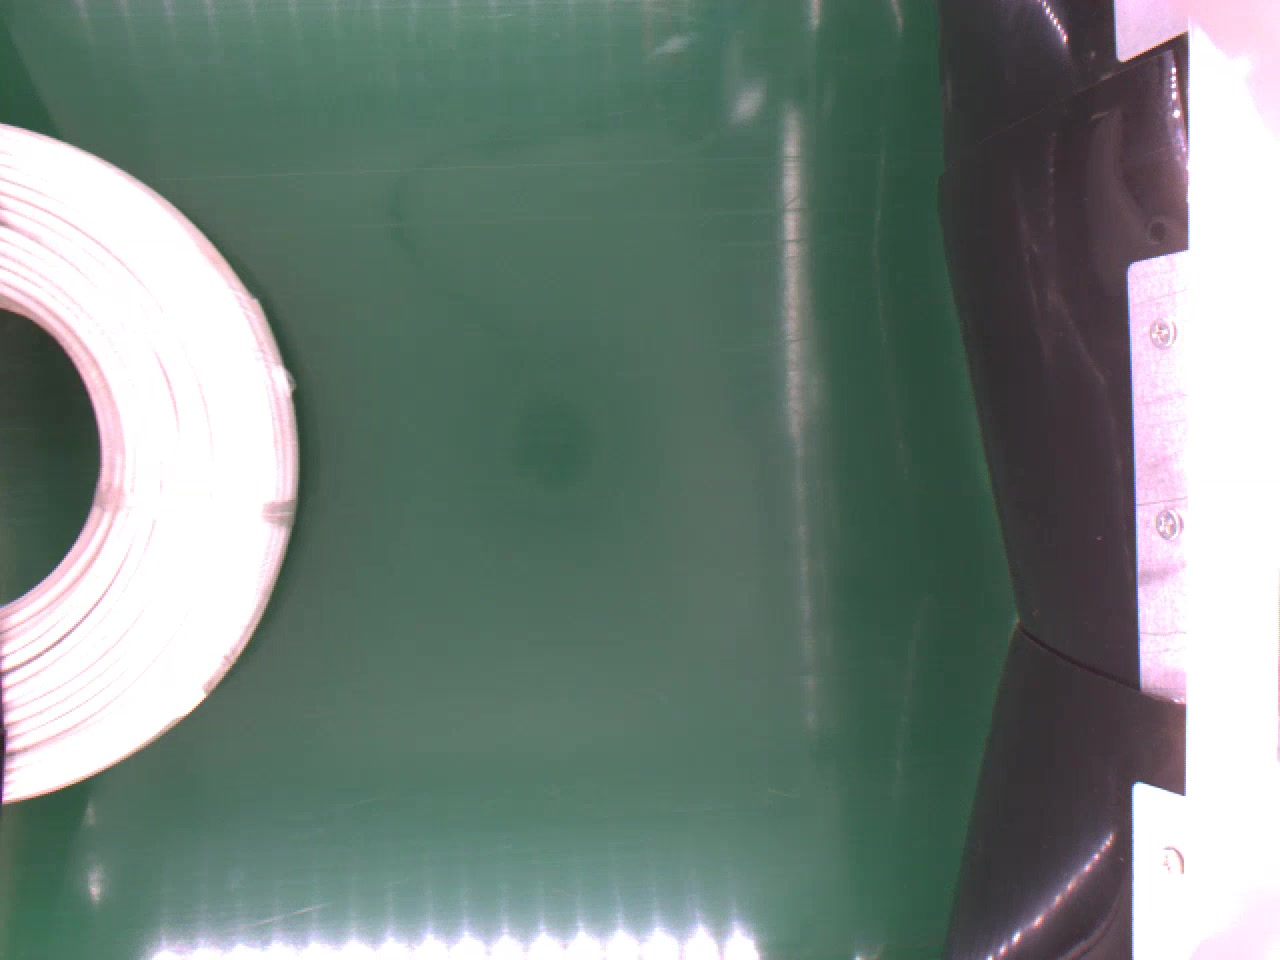white: (0, 122, 303, 811)
